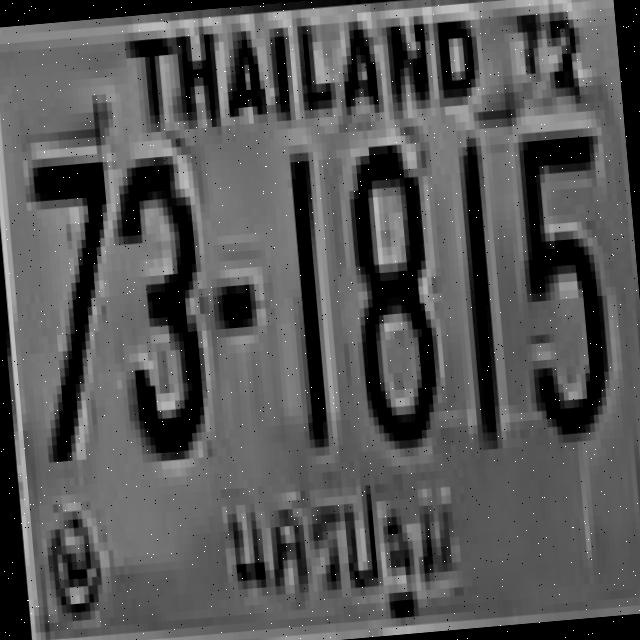1: (452, 137, 502, 441), (280, 148, 328, 444)
3: (106, 146, 212, 455)
5: (507, 124, 613, 432)
7: (24, 150, 125, 458)
8: (340, 134, 440, 442)
NakhonPathom: (219, 462, 470, 631)
